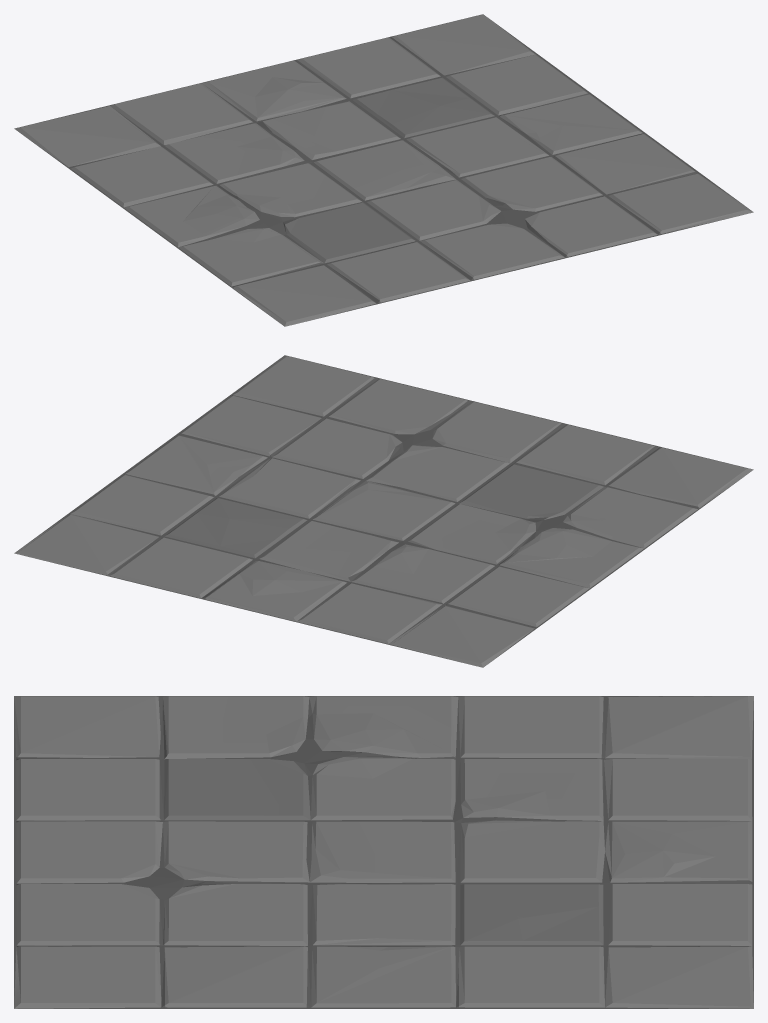
File: Ground_11_dra.glb
3 renders of one model, top to bottom at view 1: azimuth 30°, elevation 25°; view 2: azimuth 150°, elevation 25°; view 3: azimuth 270°, elevation 25°, orthographic. The views are drawn at different scales.
Visible parts, largest first — view 1: Ground_11; view 2: Ground_11; view 3: Ground_11.
Boxes of the visible parts, x1=… form: Ground_11: x1=14, y1=14, x2=753, y2=326; Ground_11: x1=14, y1=355, x2=753, y2=667; Ground_11: x1=14, y1=696, x2=753, y2=1008.
Size of the model in its own units: 4 by 0.0411 by 4.
1 material, 1 textured.
